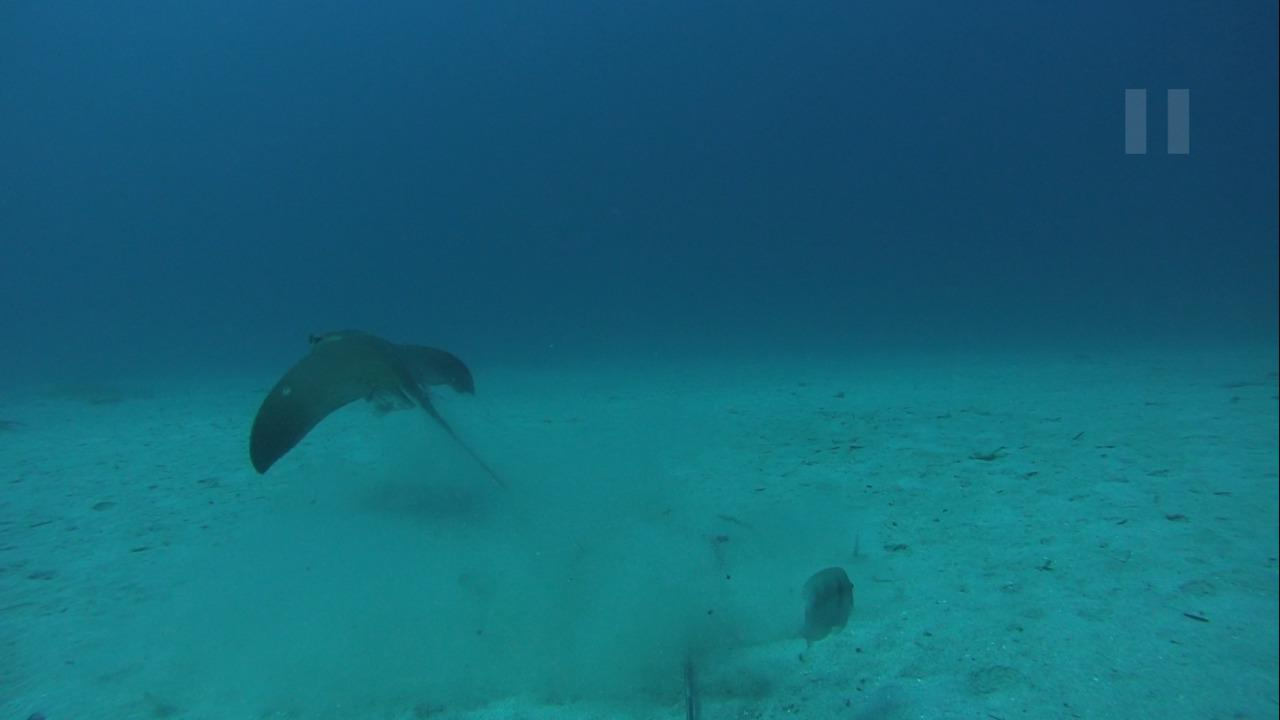myliobatis: (243, 321, 516, 514)
raor: (789, 563, 858, 655)
